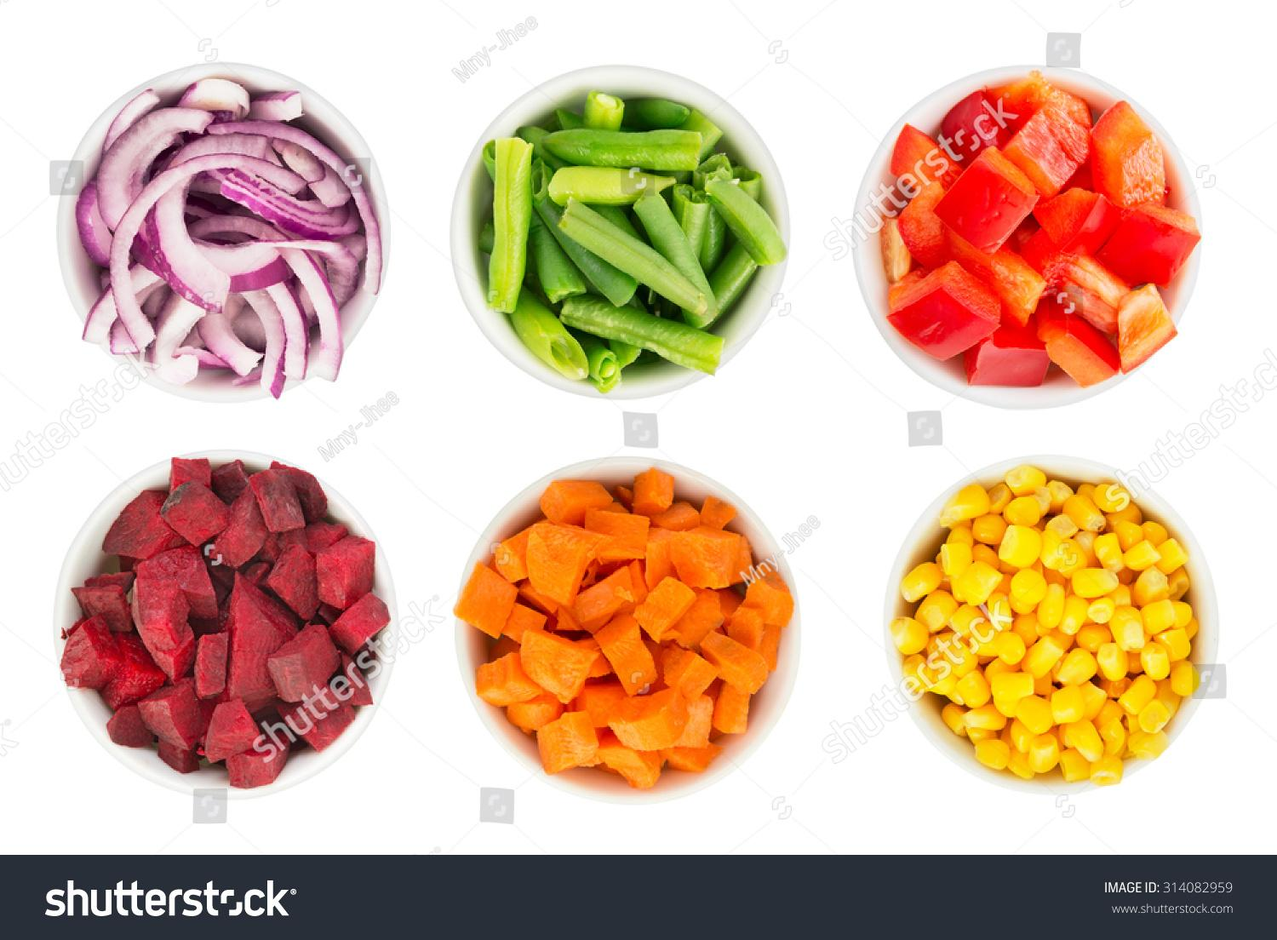beans: (468, 50, 782, 392)
beetroot: (34, 453, 399, 778)
carrot: (460, 441, 828, 790)
corn: (885, 455, 1249, 813)
onion: (48, 43, 423, 391)
toamto: (834, 57, 1238, 402)
